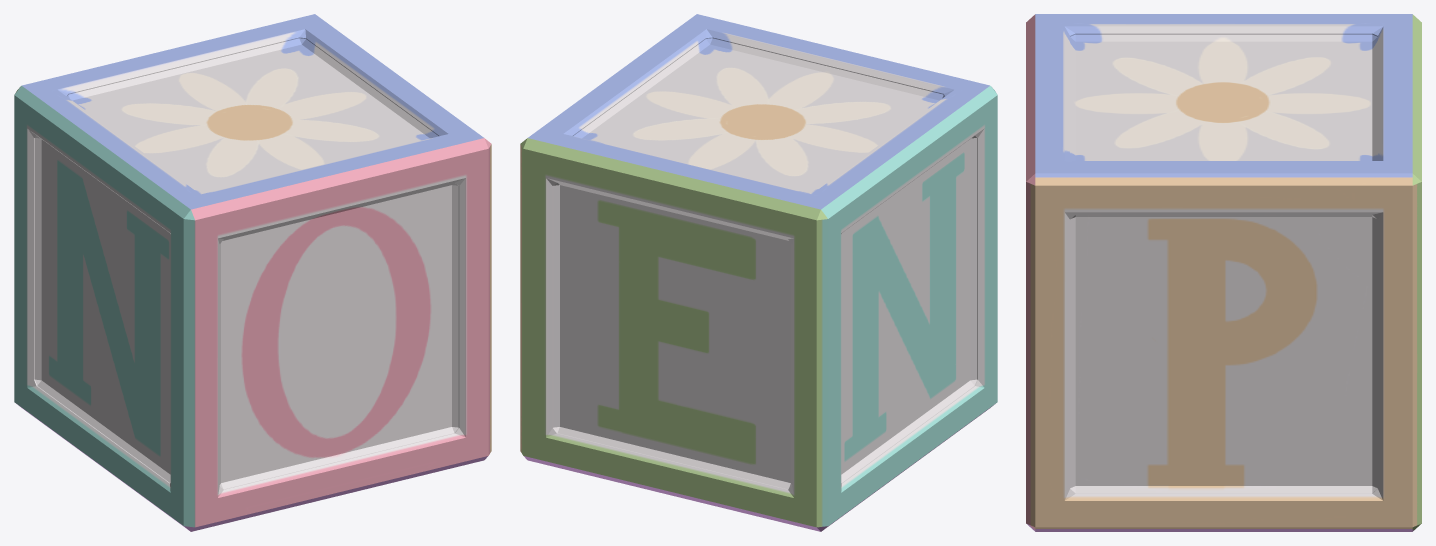
File: AlphaBlocks.fbx
The picture shows the model from 3 angles, left to right: view 1: azimuth 30°, elevation 25°; view 2: azimuth 150°, elevation 25°; view 3: azimuth 270°, elevation 25°; orthographic projection. The views are drawn at different scales.
Parts seen in each view (by area): view 1: Cube; view 2: Cube; view 3: Cube.
Boxes of the visible parts, bbox=[...] form: Cube: bbox=[14, 14, 491, 531]; Cube: bbox=[520, 14, 997, 531]; Cube: bbox=[1026, 14, 1421, 531].
Bounding box in the file's own units: 14 × 14 × 14.
1 material, 1 textured.
